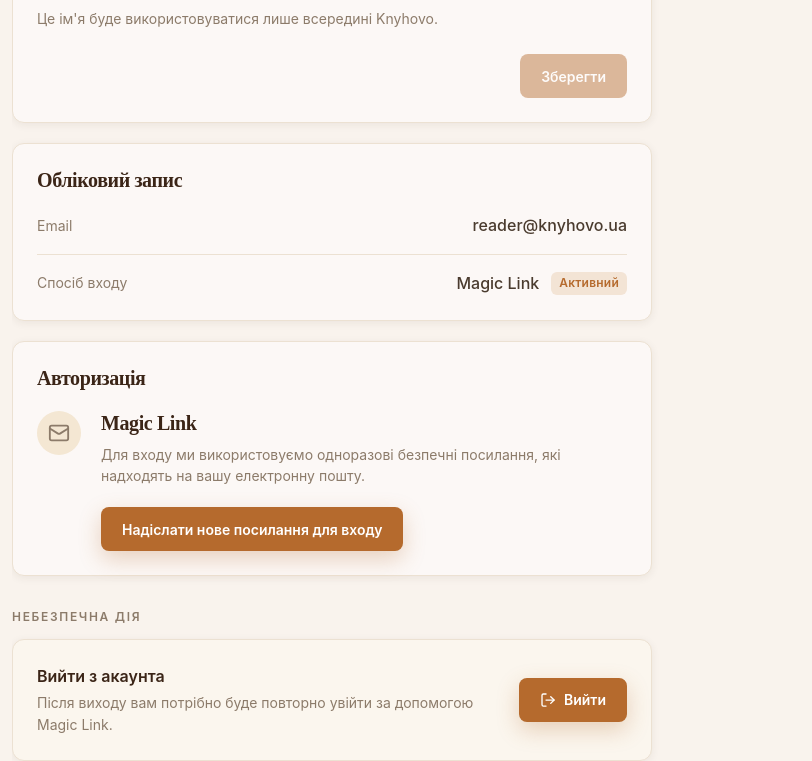
Test: ProfilePanel › shows toast «Посилання надіслано» after sending magic link
(page scrolled)
Click the button "Надіслати нове посилання для входу" at x=252, y=529, box [101,507,403,551]
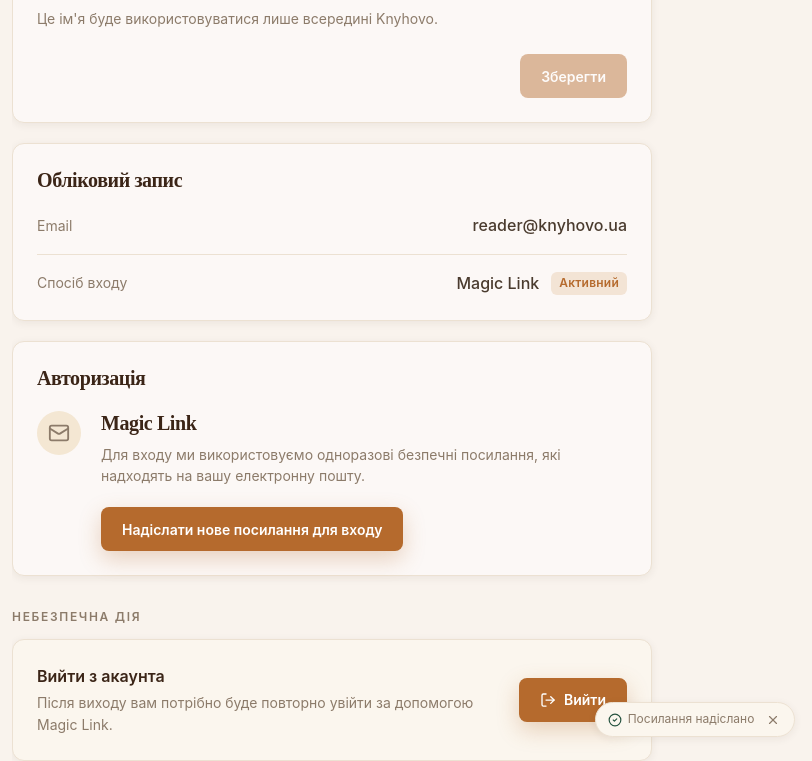
Expected: the message reads "Посилання надіслано", [628,711,754,726]
